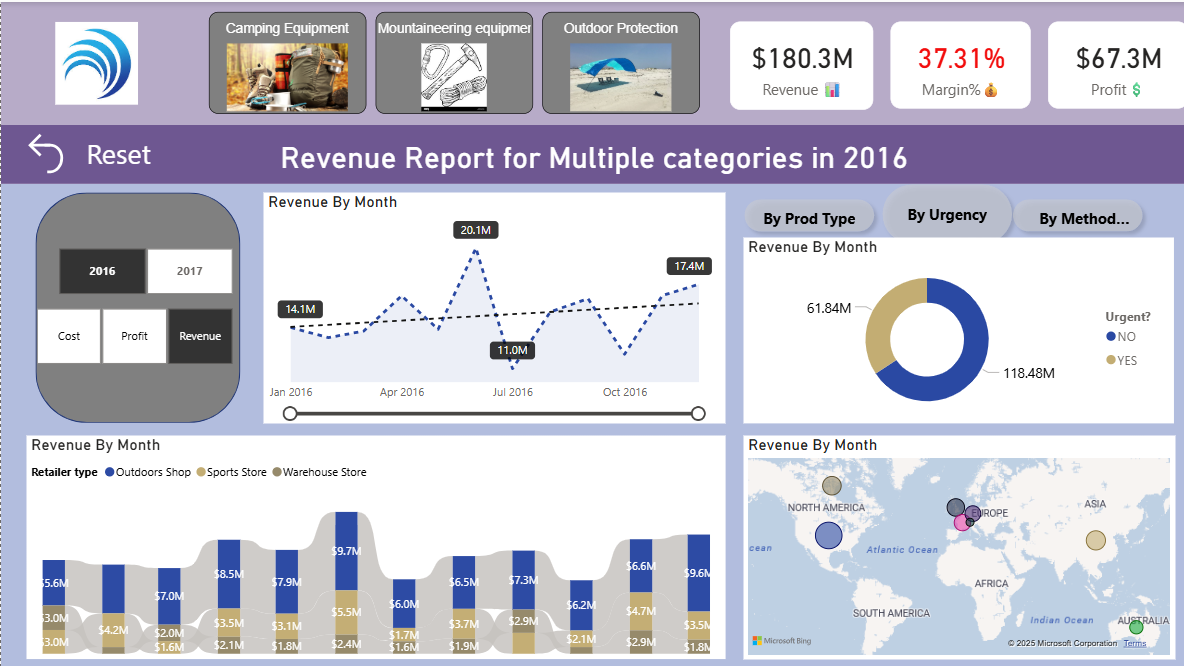

Layout of this report page (visuals, bound fields, positions):
{"tool":"powerbi","page":{"name":"Main Report","canvas":[1280,720],"ordinal":0},"visuals":[{"type":"card","title":"C_Revenue","fields":{"Values":["Sum(Sales.Revenue)"]},"box":[786.3,20.4,154.7,95],"z":0,"group":"g3"},{"type":"group","id":"g1","title":"Bookmarks","box":[793.4,187.8,472.8,267.2],"z":0},{"type":"group","id":"g2","title":"Buttons","box":[793.4,187.8,452.7,89.5],"z":0,"group":"g1"},{"type":"shape","title":"Slicerbackground","box":[36.9,205.3,221.1,248.7],"z":0,"group":"g5"},{"type":"donutChart","fields":{"Category":["Sales.Urgent?"],"Y":["Sales.Values"]},"box":[801.7,254.3,464.7,200.4],"z":0,"group":"g4"},{"type":"group","id":"g3","title":"ReportTitle","box":[0,0,1280.8,195.8],"z":1000},{"type":"card","title":"C_Profit","fields":{"Values":["Sum(Sales.Profit)"]},"box":[1129.6,21.6,151.2,94.2],"z":1000,"group":"g3"},{"type":"actionButton","title":"B_ProdType","box":[793.4,204.6,158.1,52.6],"z":1000,"group":"g2"},{"type":"group","id":"g4","title":"Visuals","box":[793.6,254.3,472.8,200.4],"z":1000,"group":"g1"},{"type":"slicer","title":"KPISlicer","fields":{"Values":["KPI.KPI"]},"box":[13.2,323.7,260.5,73.7],"z":1000,"group":"g5"},{"type":"card","title":"C_Margin","fields":{"Values":["Sales.Margin%"]},"box":[959.7,21.6,151.2,94.2],"z":2000,"group":"g3"},{"type":"actionButton","title":"BB_Urgent","box":[941.6,187.8,158,82.1],"z":2000,"group":"g2"},{"type":"areaChart","fields":{"Category":["Date.Full Month"],"Y":["Sales.Values"]},"box":[283.4,205.6,498.7,249.4],"z":2000},{"type":"slicer","title":"Year_Slicer","fields":{"Values":["Date.Year"]},"box":[36.9,257.9,236.8,63.2],"z":2000,"group":"g5"},{"type":"ChicletSlicer1448559807354","fields":{"Category":["ProductLineImages.Product Line"],"Image":["ProductLineImages.Image"]},"box":[213.2,0,572.9,132.4],"z":3000,"group":"g3"},{"type":"ribbonChart","fields":{"Y":["Sum(Sales.Revenue)"],"Category":["Date.Full Month"],"Series":["Sales.Retailer type"]},"box":[27.5,468,754.6,241.3],"z":3000},{"type":"card","title":"Report_Title","fields":{"Values":["Sales.Measure"]},"box":[0,132.4,1280.3,63.4],"z":4000,"group":"g3"},{"type":"map","fields":{"Category":["City.Country"],"Series":["City.Country"],"Size":["Sales.Values"]},"box":[801.2,467.5,465,241.2],"z":4000},{"type":"image","box":[36.6,16.3,132.1,99.6],"z":5000},{"type":"actionButton","title":"B_OM_Type","box":[1082.4,203.9,158,52.6],"z":5000,"group":"g2"},{"type":"group","id":"g5","title":"Slicer","box":[13.2,205.3,260.5,248.7],"z":6000},{"type":"actionButton","box":[21.1,136.6,147.9,54.9],"z":7000}]}

Visuals, with their boxes in screenshot pixels (x1, y1, x2, y2), scaled from the page's 1280x720 canvas onto the 1184x666 screenshot:
"C_Revenue" card: <bbox>727, 19, 870, 107</bbox>
"Bookmarks" group: <bbox>734, 174, 1171, 421</bbox>
"Buttons" group: <bbox>734, 174, 1153, 257</bbox>
"Slicerbackground" shape: <bbox>34, 190, 239, 420</bbox>
donutChart - Sales.Urgent? x Sales.Values: <bbox>742, 235, 1171, 421</bbox>
"ReportTitle" group: <bbox>0, 0, 1183, 181</bbox>
"C_Profit" card: <bbox>1045, 20, 1183, 107</bbox>
"B_ProdType" actionButton: <bbox>734, 189, 880, 238</bbox>
"Visuals" group: <bbox>734, 235, 1171, 421</bbox>
"KPISlicer" slicer: <bbox>12, 299, 253, 368</bbox>
"C_Margin" card: <bbox>888, 20, 1028, 107</bbox>
"BB_Urgent" actionButton: <bbox>871, 174, 1017, 250</bbox>
areaChart - Date.Full Month x Sales.Values: <bbox>262, 190, 723, 421</bbox>
"Year_Slicer" slicer: <bbox>34, 239, 253, 297</bbox>
ChicletSlicer1448559807354 - ProductLineImages.Product Line x ProductLineImages.Image: <bbox>197, 0, 727, 122</bbox>
ribbonChart - Sum(Sales.Revenue) x Date.Full Month: <bbox>25, 433, 723, 656</bbox>
"Report_Title" card: <bbox>0, 122, 1183, 181</bbox>
map - City.Country x City.Country: <bbox>741, 432, 1171, 656</bbox>
image: <bbox>34, 15, 156, 107</bbox>
"B_OM_Type" actionButton: <bbox>1001, 189, 1147, 237</bbox>
"Slicer" group: <bbox>12, 190, 253, 420</bbox>
actionButton: <bbox>20, 126, 156, 177</bbox>
